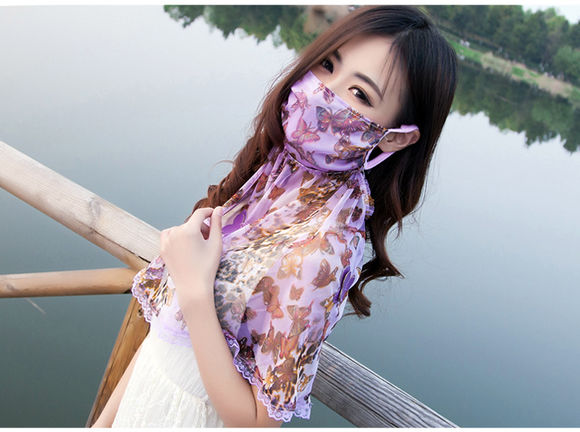face_mask: (278, 33, 406, 149)
